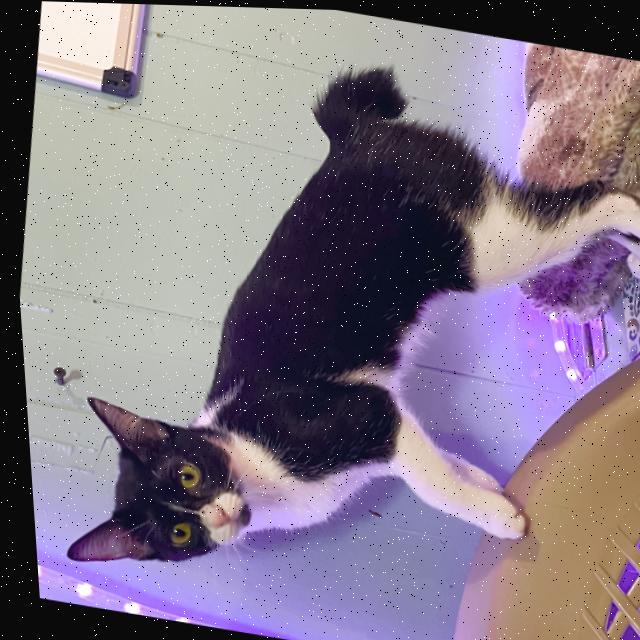American Bobtail: (25, 11, 640, 640)
